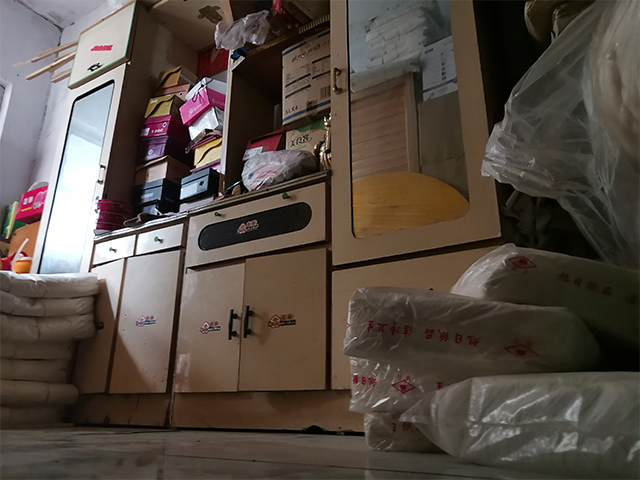cabinet: (79, 174, 337, 435)
